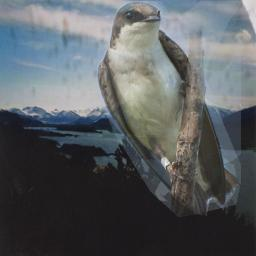Swallow: (97, 1, 241, 218)
